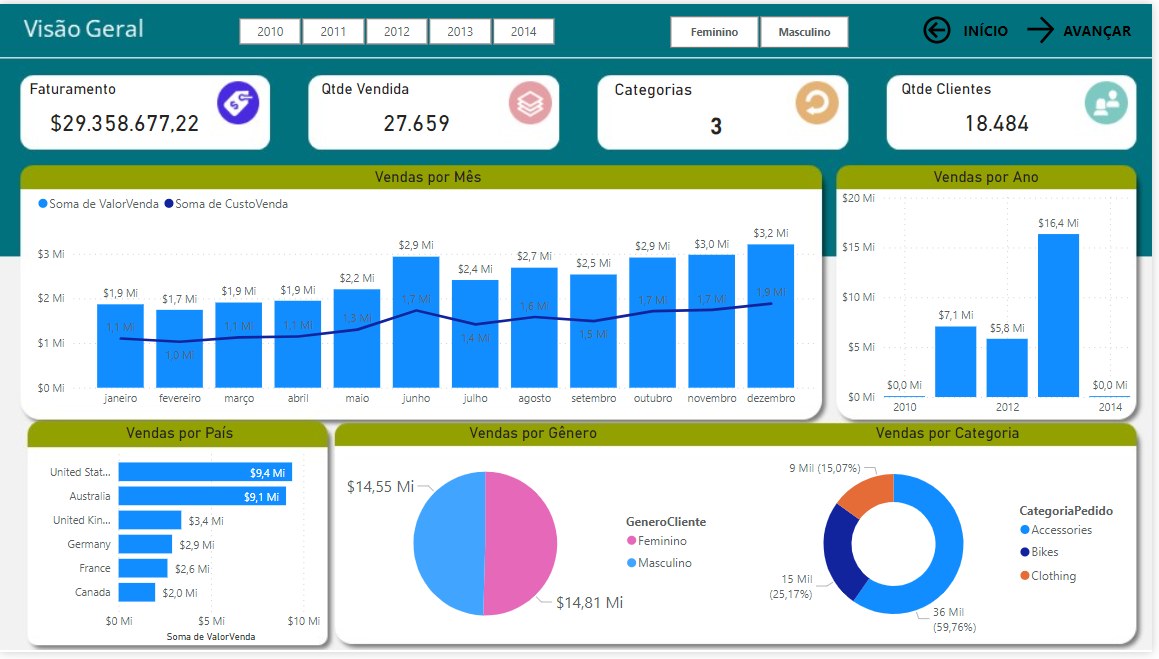

Layout of this report page (visuals, bound fields, positions):
{"tool":"powerbi","page":{"name":"Visão Geral","canvas":[1280,720],"ordinal":1},"visuals":[{"type":"actionButton","box":[1021.1,8.9,103.3,40],"z":0},{"type":"actionButton","box":[1135.6,8.9,125.6,40],"z":1000},{"type":"card","title":"Faturamento","fields":{"Values":["Sum(vw_AnaliseVendas - vw_AnaliseVendas.ValorVenda)"]},"box":[27.8,84.4,221.1,74.4],"z":2000},{"type":"card","title":"Categorias","fields":{"Values":["Count(vw_AnaliseVendas - vw_AnaliseVendas.CategoriaPedido)"]},"box":[677.8,84.4,236.7,78.9],"z":3000},{"type":"card","title":"Qtde Vendida","fields":{"Values":["Count(vw_AnaliseVendas - vw_AnaliseVendas.NumeroPedido)"]},"box":[352.2,84.4,221.1,74.4],"z":4000},{"type":"card","title":"Qtde Clientes","fields":{"Values":["Count(vw_AnaliseVendas - vw_AnaliseVendas.IDCliente)"]},"box":[996.7,84.4,221.1,74.4],"z":5000},{"type":"lineClusteredColumnComboChart","title":"Vendas por Mês","fields":{"Category":["vw_AnaliseVendas - vw_AnaliseVendas.DataPedido.Variation.Hierarquia de datas.Mês"],"Y":["Sum(vw_AnaliseVendas - vw_AnaliseVendas.ValorVenda)"],"Y2":["Sum(vw_AnaliseVendas - vw_AnaliseVendas.CustoVenda)"]},"box":[36.7,182.2,877.8,274.4],"z":6000},{"type":"columnChart","title":"Vendas por Ano","fields":{"Category":["vw_AnaliseVendas - vw_AnaliseVendas.DataPedido.Variation.Hierarquia de datas.Ano"],"Y":["Sum(vw_AnaliseVendas - vw_AnaliseVendas.ValorVenda)"]},"box":[930,182.2,331.1,284.4],"z":7000},{"type":"barChart","title":"Vendas por País","fields":{"Category":["vw_AnaliseVendas - vw_AnaliseVendas.PaísCliente"],"Y":["Sum(vw_AnaliseVendas - vw_AnaliseVendas.ValorVenda)"]},"box":[37.8,466.7,323.3,246.7],"z":8000},{"type":"pieChart","title":"Vendas por Gênero","fields":{"Category":["vw_AnaliseVendas - vw_AnaliseVendas.GeneroCliente"],"Y":["Sum(vw_AnaliseVendas - vw_AnaliseVendas.ValorVenda)"]},"box":[377.8,466.7,428.9,246.7],"z":9000},{"type":"donutChart","title":"Vendas por Categoria","fields":{"Category":["vw_AnaliseVendas - vw_AnaliseVendas.CategoriaPedido"],"Y":["Sum(vw_AnaliseVendas - vw_AnaliseVendas.QuantidadeVendida)"]},"box":[847.8,466.7,410,247.8],"z":10000},{"type":"slicer","fields":{"Values":["vw_AnaliseVendas - vw_AnaliseVendas.GeneroCliente"]},"box":[718.9,6.7,247.8,48.9],"z":11000},{"type":"slicer","fields":{"Values":["vw_AnaliseVendas - vw_AnaliseVendas.DataPedido.Variation.Hierarquia de datas.Ano"]},"box":[240,8.9,400,43.3],"z":12000}]}

Visuals, with their boxes in screenshot pixels (x1, y1, x2, y2), scaled from the page's 1280x720 canvas onto the 1159x659 screenshot:
actionButton: [x1=925, y1=8, x2=1018, y2=45]
actionButton: [x1=1028, y1=8, x2=1142, y2=45]
"Faturamento" card: [x1=25, y1=77, x2=225, y2=145]
"Categorias" card: [x1=614, y1=77, x2=828, y2=149]
"Qtde Vendida" card: [x1=319, y1=77, x2=519, y2=145]
"Qtde Clientes" card: [x1=902, y1=77, x2=1103, y2=145]
"Vendas por Mês" lineClusteredColumnComboChart: [x1=33, y1=167, x2=828, y2=418]
"Vendas por Ano" columnChart: [x1=842, y1=167, x2=1142, y2=427]
"Vendas por País" barChart: [x1=34, y1=427, x2=327, y2=653]
"Vendas por Gênero" pieChart: [x1=342, y1=427, x2=730, y2=653]
"Vendas por Categoria" donutChart: [x1=768, y1=427, x2=1139, y2=654]
slicer - vw_AnaliseVendas - vw_AnaliseVendas.GeneroCliente: [x1=651, y1=6, x2=875, y2=51]
slicer - vw_AnaliseVendas - vw_AnaliseVendas.DataPedido.Variation.Hierarquia de datas.Ano: [x1=217, y1=8, x2=580, y2=48]
